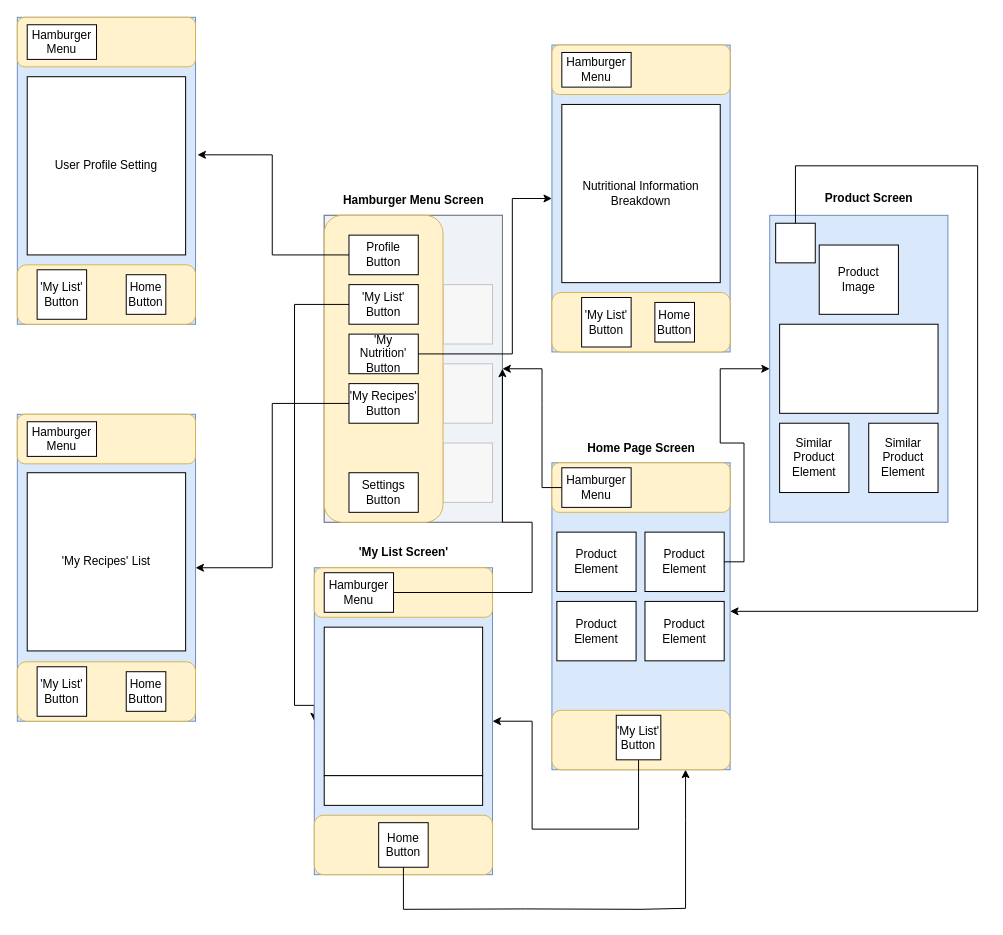
Some shapes in this 1003 by 935 pixel diagram are drawn without their labels. Here are the shapes that lost their labels. From the top down, the centre of each, then its label:
[795,242]: Back Button
[858,368]: Product Details
[403,701]: Scrollable Shopping List
[403,790]: Prices Of Stores Entity
